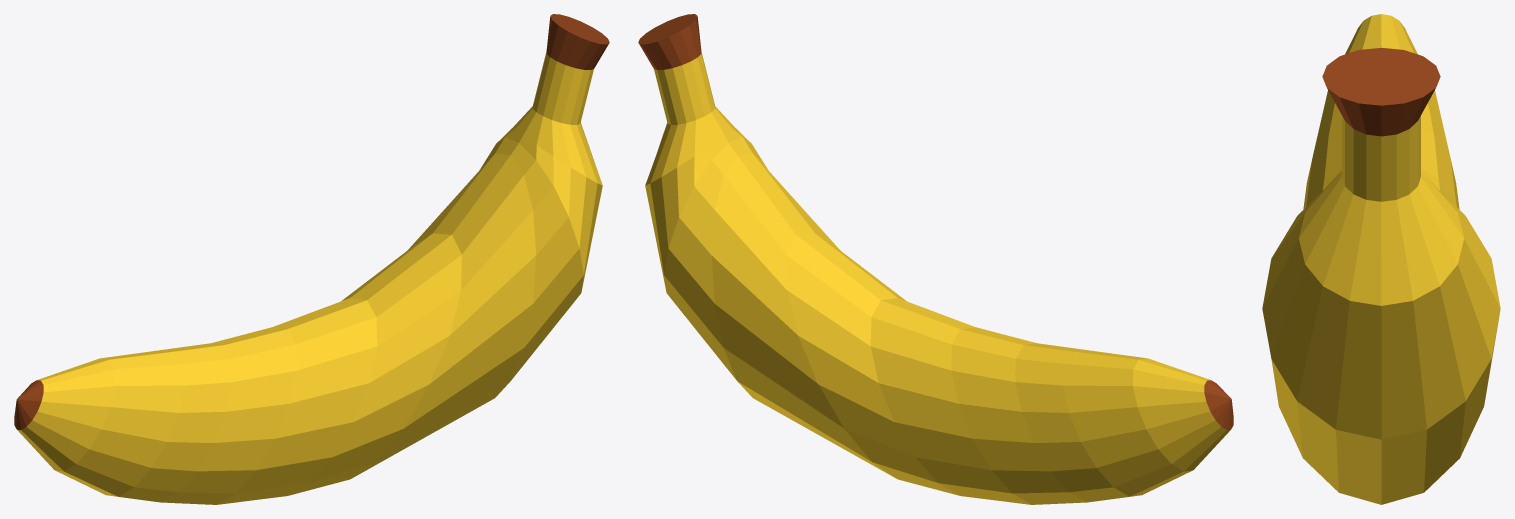
The model's file is banana.fbx.
The picture shows the model from 3 angles, left to right: view 1: azimuth 30°, elevation 25°; view 2: azimuth 150°, elevation 25°; view 3: azimuth 270°, elevation 25°; orthographic projection. The views are drawn at different scales.
Visible parts, largest first — view 1: Cylinder; view 2: Cylinder; view 3: Cylinder.
Boxes of the visible parts, <box> form: Cylinder: <box>14,14,609,504</box>; Cylinder: <box>638,14,1233,504</box>; Cylinder: <box>1262,14,1500,504</box>.
Size of the model in its own units: 448 by 291 by 108.
